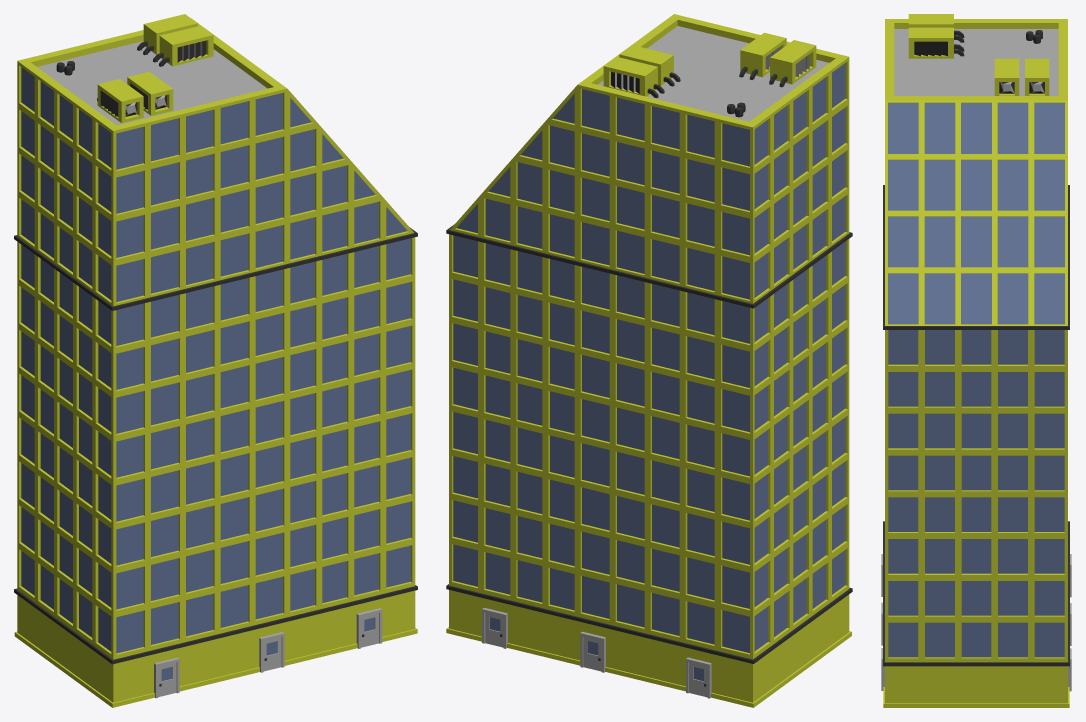
The model's file is Skyscraper4_1.fbx.
3 views of the same model, side by side, from view 1: azimuth 30°, elevation 25°; view 2: azimuth 150°, elevation 25°; view 3: azimuth 270°, elevation 25° (orthographic). The views are drawn at different scales.
Visible parts, largest first — view 1: Building13_1.005; view 2: Building13_1.005; view 3: Building13_1.005.
Boxes of the visible parts, <box> form: Building13_1.005: <box>14,14,417,707</box>; Building13_1.005: <box>446,14,852,707</box>; Building13_1.005: <box>881,14,1071,707</box>.
Bounding box in the file's own units: 1210 × 2237 × 685.
